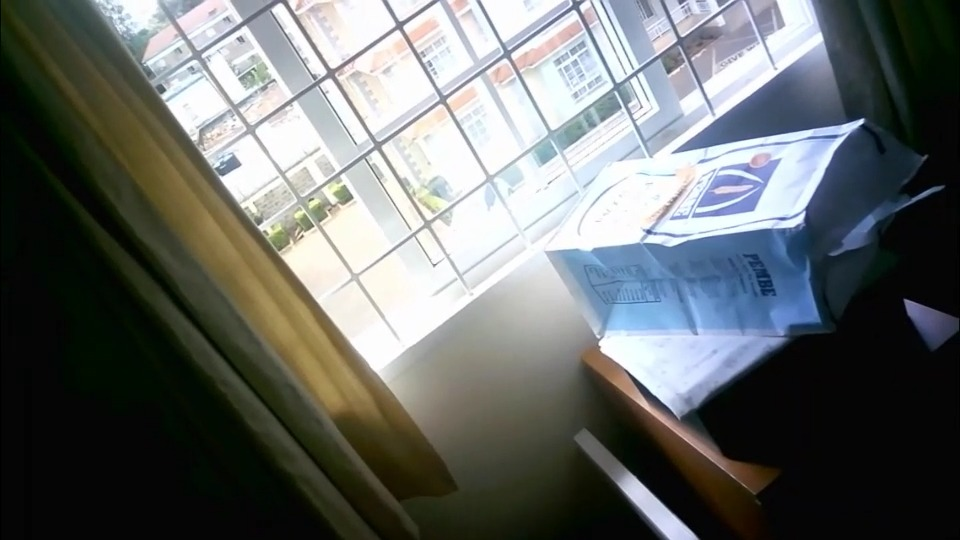wheat_flour_blue_label: (546, 119, 934, 337)
